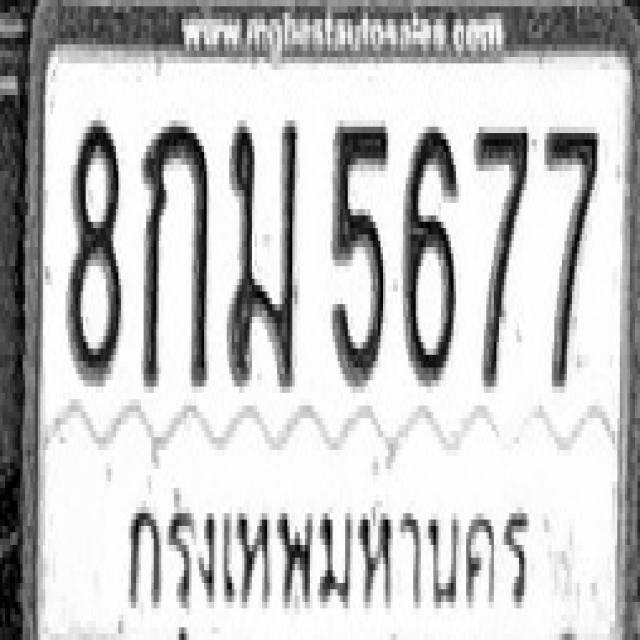10GorGai: (141, 114, 209, 387)
42MorMa: (227, 114, 297, 387)
5: (330, 120, 388, 387)
6: (402, 120, 457, 380)
7: (474, 120, 529, 387), (543, 123, 598, 390)
8: (65, 114, 121, 380)
Bangkok: (117, 464, 540, 640)
